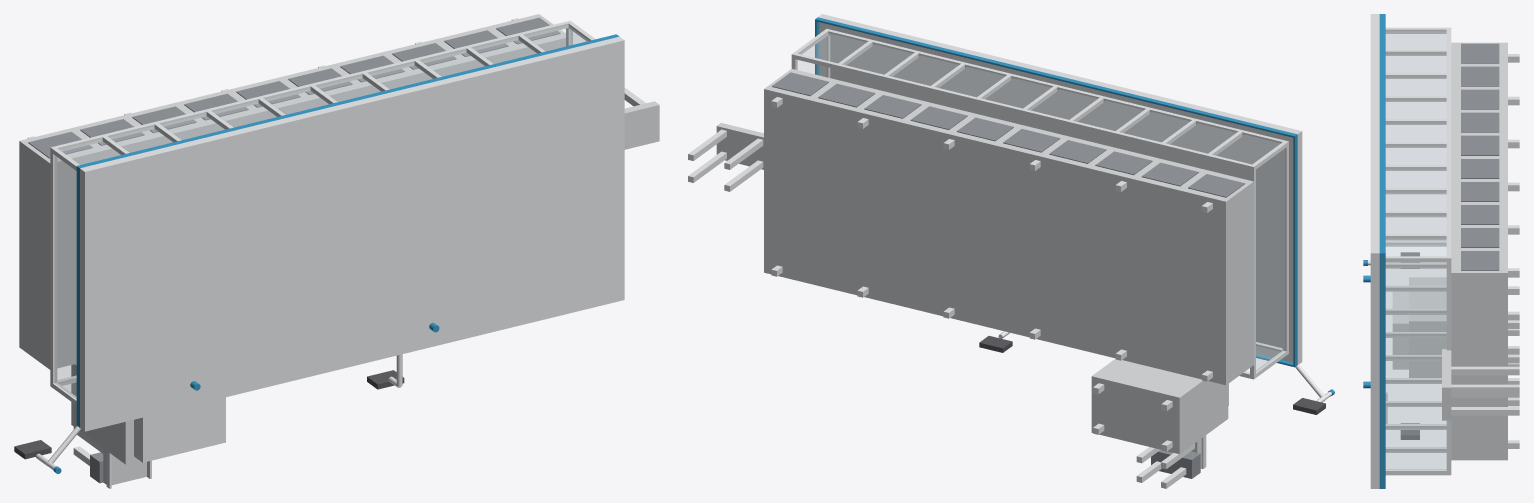
File: utc40_blockout (4).glb
The picture shows the model from 3 angles, left to right: view 1: azimuth 30°, elevation 25°; view 2: azimuth 150°, elevation 25°; view 3: azimuth 270°, elevation 25°; orthographic projection. The views are drawn at different scales.
Parts seen in each view (by area): view 1: toiture_01, socle_01, verre_21, capot_alim_01, traverse_03, bandeau_02, traverse_05, groupe_alim_01, conv_sortie_01, bandeau_03, verre_12, verre_06 (+10 smaller); view 2: socle_01, toiture_01, groupe_alim_01, verre_21, traverse_03, traverse_04, bandeau_02, traverse_06, conv_sortie_01, bandeau_03, verre_10, verre_16 (+19 smaller); view 3: socle_01, verre_22, verre_21, toiture_01, groupe_alim_01, bandeau_02, bandeau_04, traverse_03, verre_02, verre_04, verre_06, verre_08 (+56 smaller).
Boxes of the visible parts, x1,y1,x2,y2 form: toiture_01: [80, 36, 624, 431]; socle_01: [19, 14, 565, 369]; verre_21: [55, 156, 76, 398]; capot_alim_01: [134, 397, 225, 462]; traverse_03: [51, 21, 569, 152]; bandeau_02: [76, 34, 618, 169]; traverse_05: [50, 147, 57, 385]; groupe_alim_01: [71, 364, 139, 464]; conv_sortie_01: [624, 101, 659, 149]; bandeau_03: [76, 168, 79, 426]; verre_12: [318, 76, 380, 101]; verre_06: [162, 114, 224, 139]; socle_01: [764, 68, 1253, 385]; toiture_01: [818, 14, 1302, 364]; groupe_alim_01: [1091, 359, 1228, 454]; verre_21: [1256, 149, 1284, 371]; traverse_03: [791, 53, 1255, 170]; traverse_04: [826, 29, 1285, 144]; bandeau_02: [815, 17, 1297, 137]; traverse_06: [1282, 145, 1288, 352]; conv_sortie_01: [716, 123, 763, 169]; bandeau_03: [1293, 135, 1297, 367]; verre_10: [1031, 89, 1096, 119]; verre_16: [892, 56, 957, 85]; socle_01: [1451, 42, 1507, 460]; verre_22: [1386, 262, 1446, 469]; verre_21: [1386, 34, 1445, 233]; toiture_01: [1370, 14, 1379, 488]; groupe_alim_01: [1409, 277, 1446, 377]; bandeau_02: [1379, 14, 1385, 254]; bandeau_04: [1379, 252, 1385, 488]; traverse_03: [1446, 28, 1451, 261]; verre_02: [1386, 31, 1446, 49]; verre_04: [1386, 55, 1446, 72]; verre_06: [1386, 78, 1446, 95]; verre_08: [1386, 101, 1446, 118].
Bounding box in the file's own units: 10.6 × 5.6 × 2.4.
